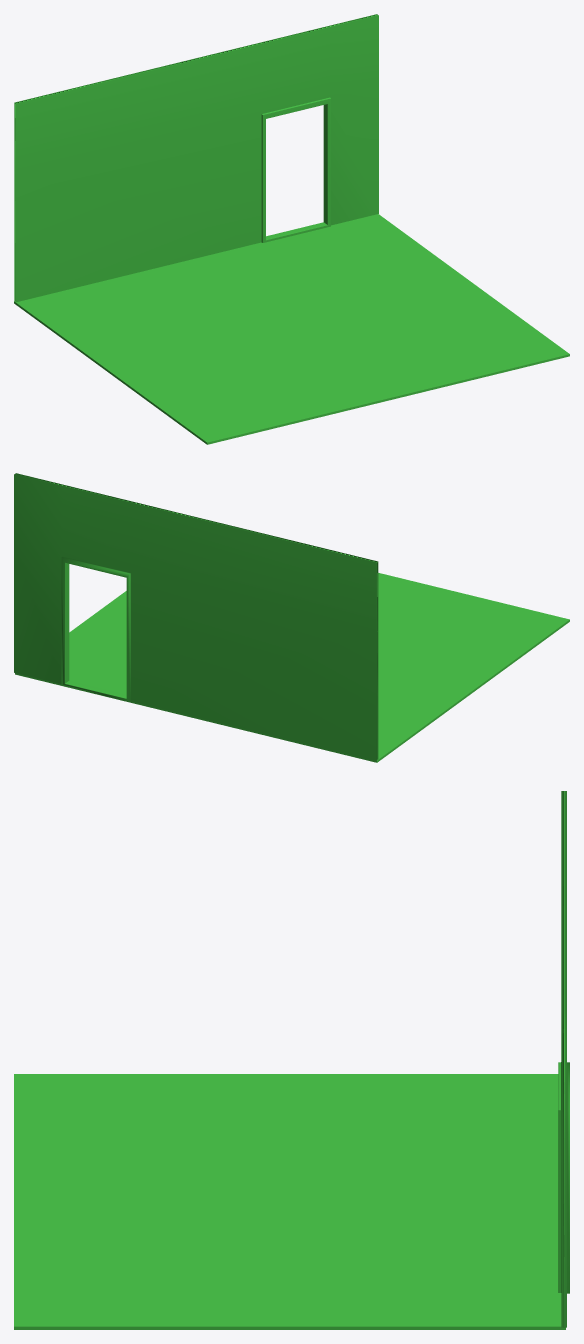
Rendered from Floor.fbx.
The picture shows the model from 3 angles, top to bottom: view 1: azimuth 30°, elevation 25°; view 2: azimuth 150°, elevation 25°; view 3: azimuth 270°, elevation 25°; orthographic projection. The views are drawn at different scales.
Parts seen in each view (by area): view 1: Floor1, Door_Wall; view 2: Door_Wall, Floor1; view 3: Floor1, Door_Wall.
Boxes of the visible parts, x1,y1,x2,y2 form: Floor1: [14, 214, 569, 444]; Door_Wall: [14, 14, 378, 302]; Door_Wall: [14, 473, 378, 760]; Floor1: [15, 573, 569, 762]; Floor1: [14, 1074, 565, 1329]; Door_Wall: [558, 791, 569, 1327].
Size of the model in its own units: 620 by 326 by 575.
